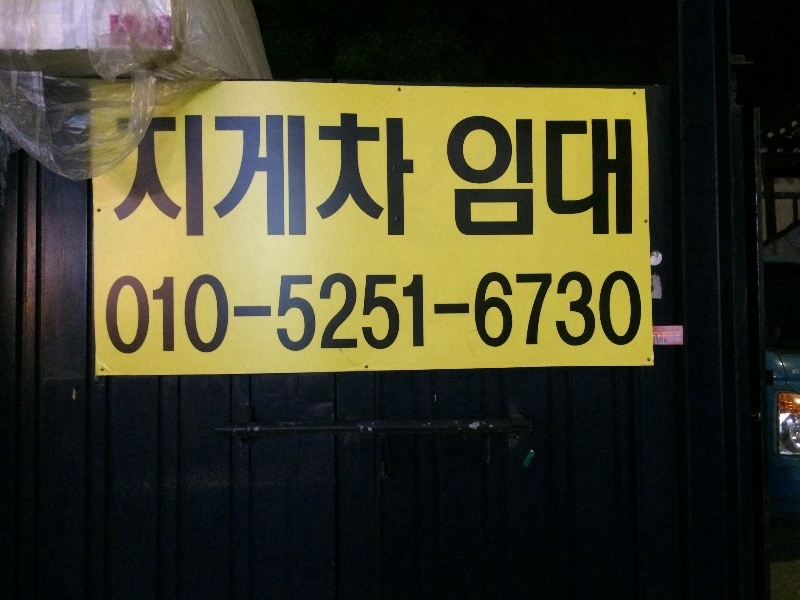text: (129, 114, 144, 237), (145, 114, 160, 237), (161, 114, 176, 237), (177, 114, 192, 237), (193, 114, 208, 237), (209, 114, 224, 237), (225, 114, 240, 237), (241, 114, 256, 237), (257, 114, 272, 237), (273, 114, 288, 237), (289, 114, 304, 237), (305, 114, 320, 237), (321, 114, 336, 237), (337, 114, 352, 237), (353, 114, 368, 237), (369, 114, 384, 237), (385, 114, 400, 237), (401, 114, 416, 237), (449, 117, 464, 237), (465, 117, 480, 237), (481, 117, 496, 237), (497, 117, 512, 237), (513, 117, 528, 237), (529, 117, 544, 237), (545, 117, 560, 237), (561, 117, 576, 237), (577, 117, 592, 237), (593, 117, 608, 237), (609, 117, 624, 237), (117, 114, 128, 237), (113, 271, 128, 355), (129, 271, 144, 355), (145, 271, 160, 355), (161, 271, 176, 355), (177, 271, 192, 355), (193, 271, 208, 355), (209, 271, 224, 355), (225, 271, 240, 355), (241, 271, 256, 355), (257, 271, 272, 355), (273, 271, 288, 355), (289, 271, 304, 355), (305, 271, 320, 355), (321, 271, 336, 355), (337, 271, 352, 355), (353, 271, 368, 355), (369, 271, 384, 355), (385, 271, 400, 355), (401, 271, 416, 355), (417, 271, 432, 355), (433, 271, 448, 355), (449, 271, 464, 355), (465, 271, 480, 355), (481, 271, 496, 355), (497, 271, 512, 355), (513, 271, 528, 355), (529, 271, 544, 355), (545, 271, 560, 355), (561, 271, 576, 355), (577, 271, 592, 355), (593, 271, 608, 355), (609, 271, 624, 355), (625, 271, 640, 355), (625, 117, 633, 237), (443, 117, 448, 237), (107, 271, 112, 355), (641, 271, 643, 355), (657, 338, 667, 344), (657, 334, 672, 338), (657, 331, 672, 334), (673, 338, 682, 342), (657, 328, 668, 331), (792, 370, 800, 374), (673, 334, 681, 338), (673, 331, 683, 334), (653, 338, 656, 344), (668, 338, 672, 342), (653, 334, 656, 338), (653, 328, 656, 331), (653, 331, 656, 334)
